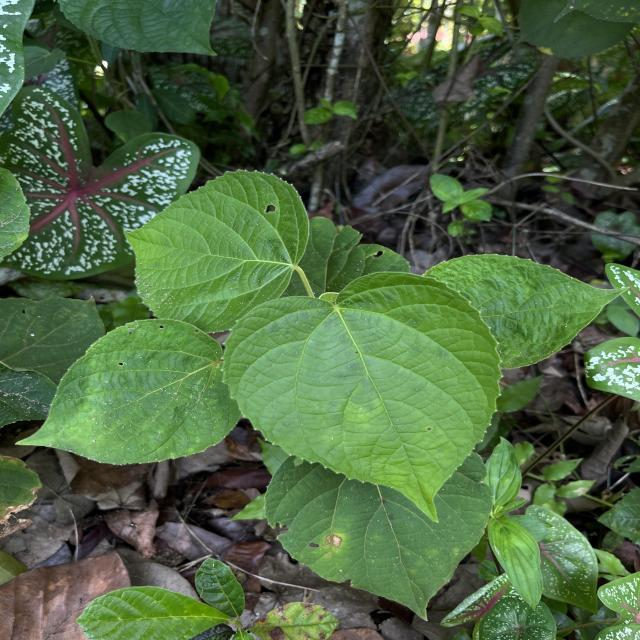Clerodendrum infortunatum: (221, 270, 504, 524), (262, 451, 496, 624), (13, 317, 244, 467), (121, 168, 312, 336), (422, 252, 630, 370)
